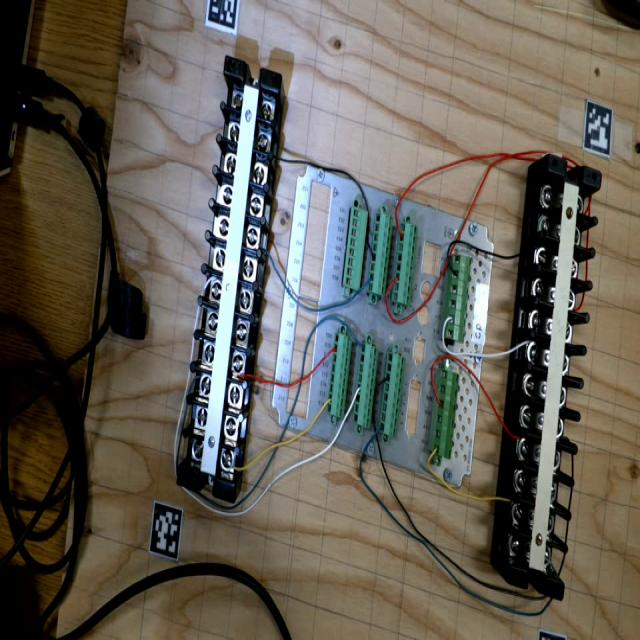Flathead_Block: (509, 154, 603, 601)
Phillips_Block: (175, 55, 285, 503)
Terminal_1: (430, 368, 460, 460), (444, 254, 471, 343)
Terminal_2: (378, 351, 406, 437), (366, 212, 394, 297), (326, 333, 353, 418), (352, 344, 379, 429), (391, 222, 418, 306)
